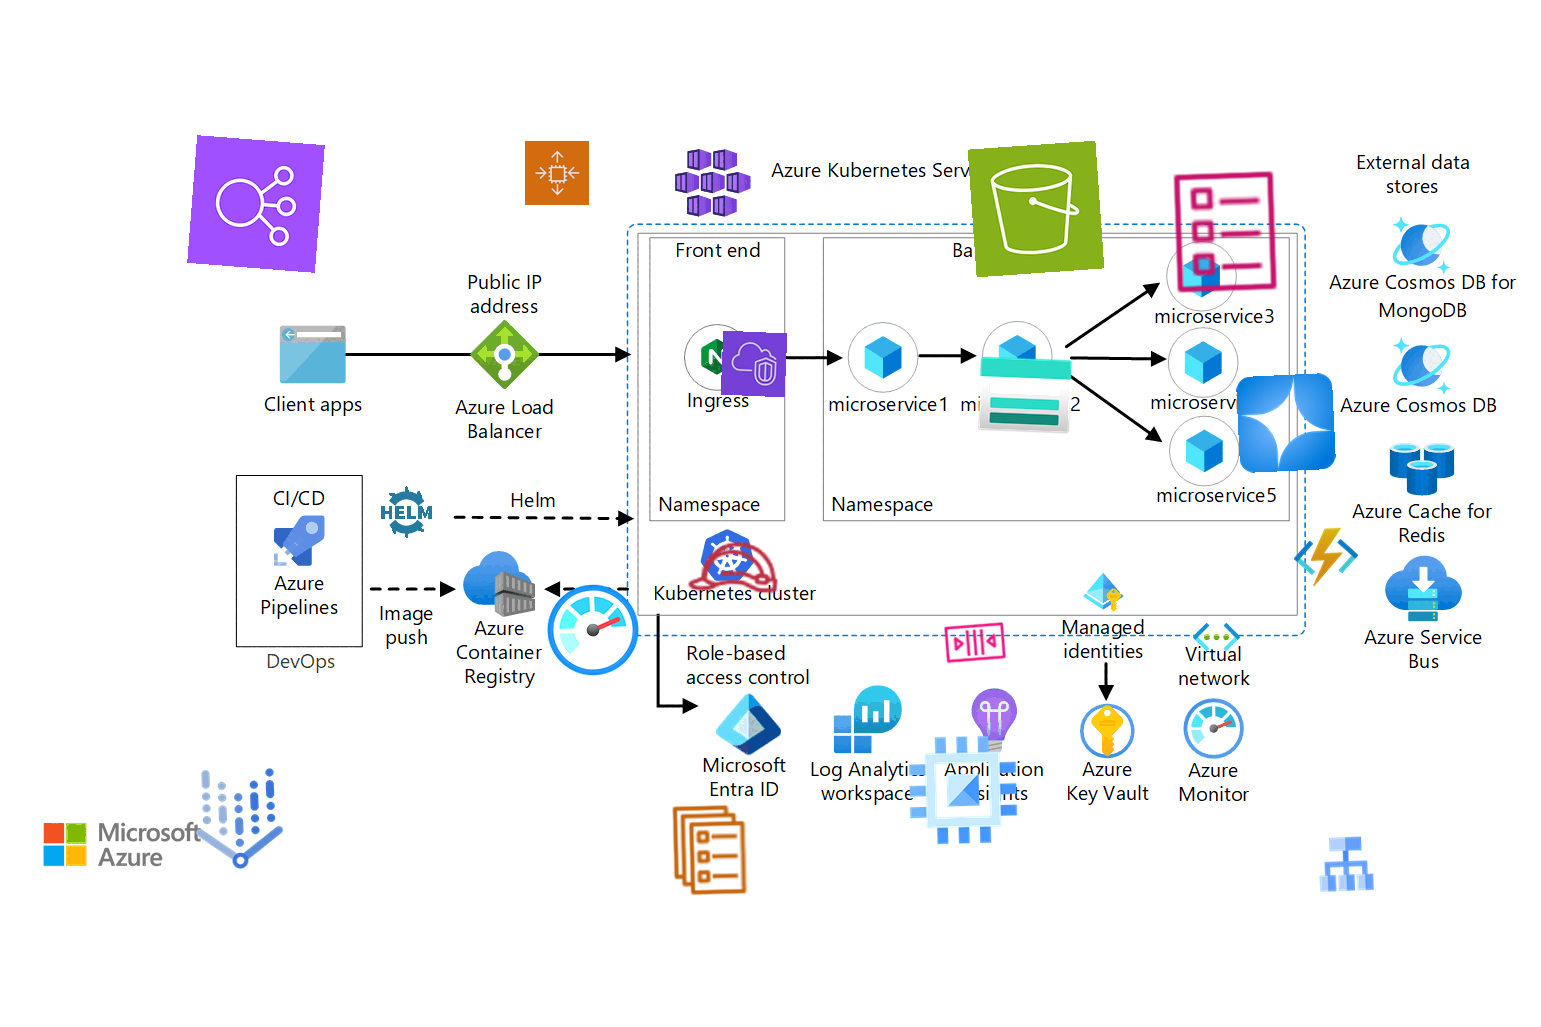aws_amazon_ec2_auto_scaling: (524, 140, 590, 206)
aws_amazon_simple_storage_service: (967, 140, 1104, 279)
aws_amazon_virtual_private_cloud: (720, 330, 788, 398)
aws_cloudformation_template: (1157, 165, 1291, 299)
aws_elastic_container_service_service: (660, 800, 760, 900)
aws_elastic_load_balancing: (187, 135, 325, 273)
aws_identity_access_management_role: (682, 516, 786, 620)
aws_simple_queue_service_queue: (939, 607, 1011, 677)
azure_function_apps: (1292, 523, 1360, 591)
azure_monitor: (543, 580, 643, 680)
azure_openai: (1235, 373, 1337, 475)
azure_storage_accounts: (975, 345, 1075, 445)
gcp_cloud_load_balancing: (1312, 830, 1379, 897)
gcp_compute_engine: (897, 724, 1029, 856)
gcp_vertex_ai: (172, 752, 306, 886)
